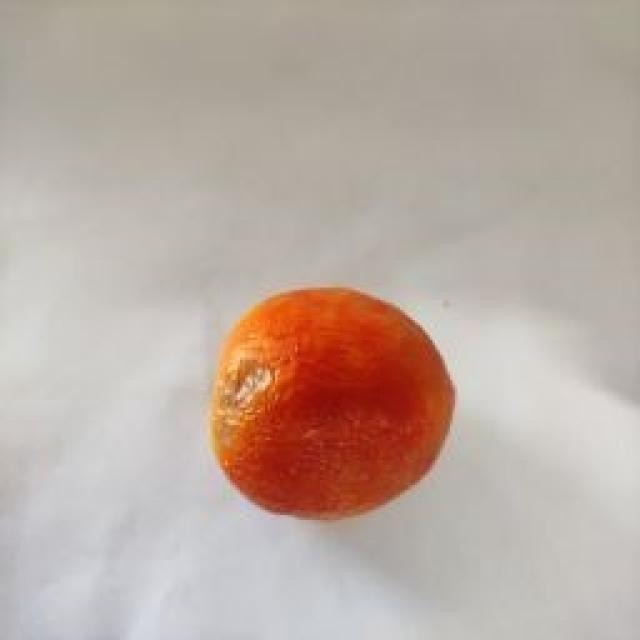overripe: (207, 282, 463, 523)
